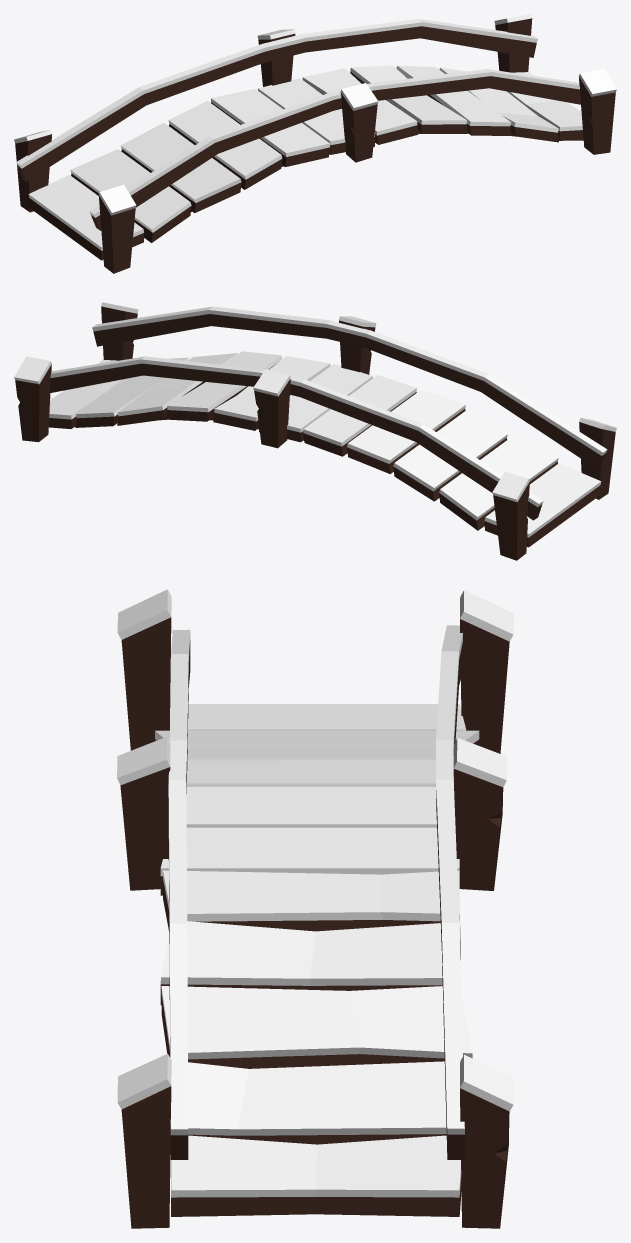
File: Bridge.fbx
3 renders of one model, top to bottom at view 1: azimuth 30°, elevation 25°; view 2: azimuth 150°, elevation 25°; view 3: azimuth 270°, elevation 25°, orthographic. The views are drawn at different scales.
Visible parts, largest first — view 1: Bridge; view 2: Bridge; view 3: Bridge.
Part boxes in pixels (bbox=[...]): Bridge: bbox=[14, 14, 616, 273]; Bridge: bbox=[14, 302, 616, 560]; Bridge: bbox=[117, 589, 513, 1228].
Bounding box in the file's own units: 1612 × 359 × 537.
1 material, 1 textured.
